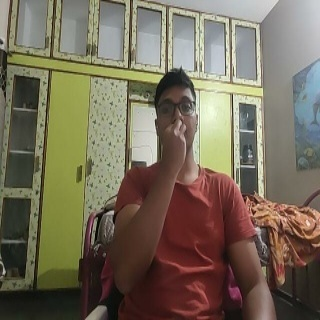Food: (160, 118, 188, 185)
